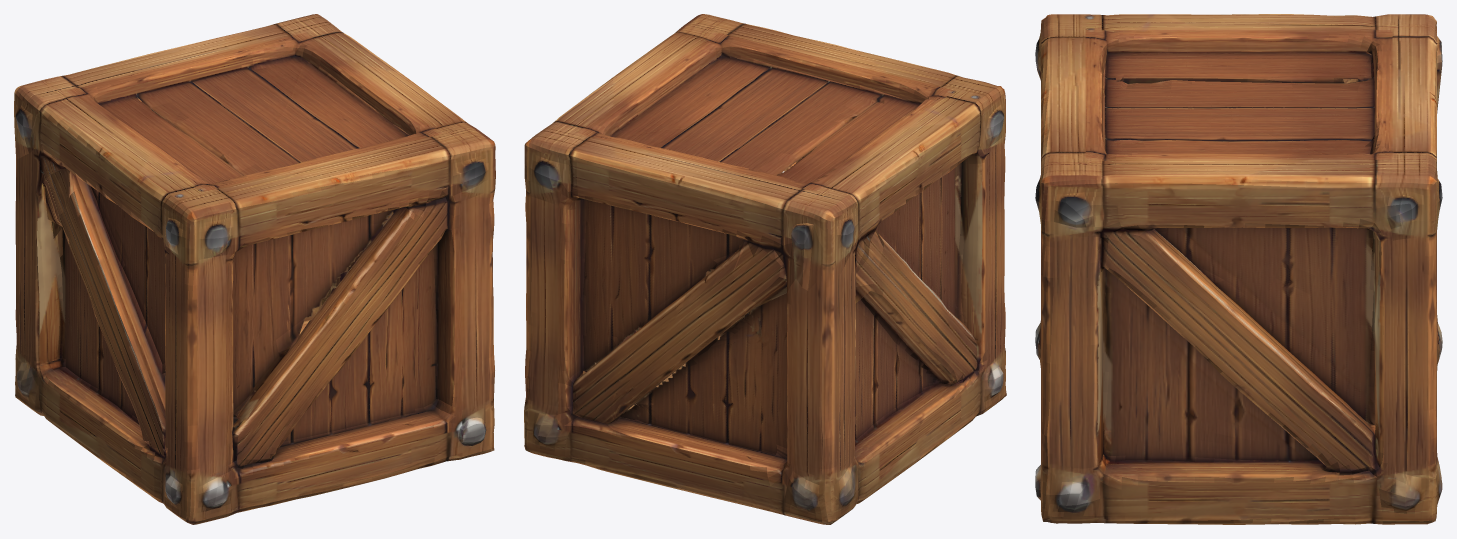
Rendered from CajaMadera.fbx.
3 renders of one model, left to right at view 1: azimuth 30°, elevation 25°; view 2: azimuth 150°, elevation 25°; view 3: azimuth 270°, elevation 25°, orthographic. The views are drawn at different scales.
Visible parts, largest first — view 1: temp; view 2: temp; view 3: temp.
Boxes of the visible parts, x1=… form: temp: x1=14, y1=14, x2=495, y2=524; temp: x1=524, y1=14, x2=1006, y2=524; temp: x1=1035, y1=14, x2=1442, y2=524.
Bounding box in the file's own units: 191 × 180 × 190.
1 material, 1 textured.
